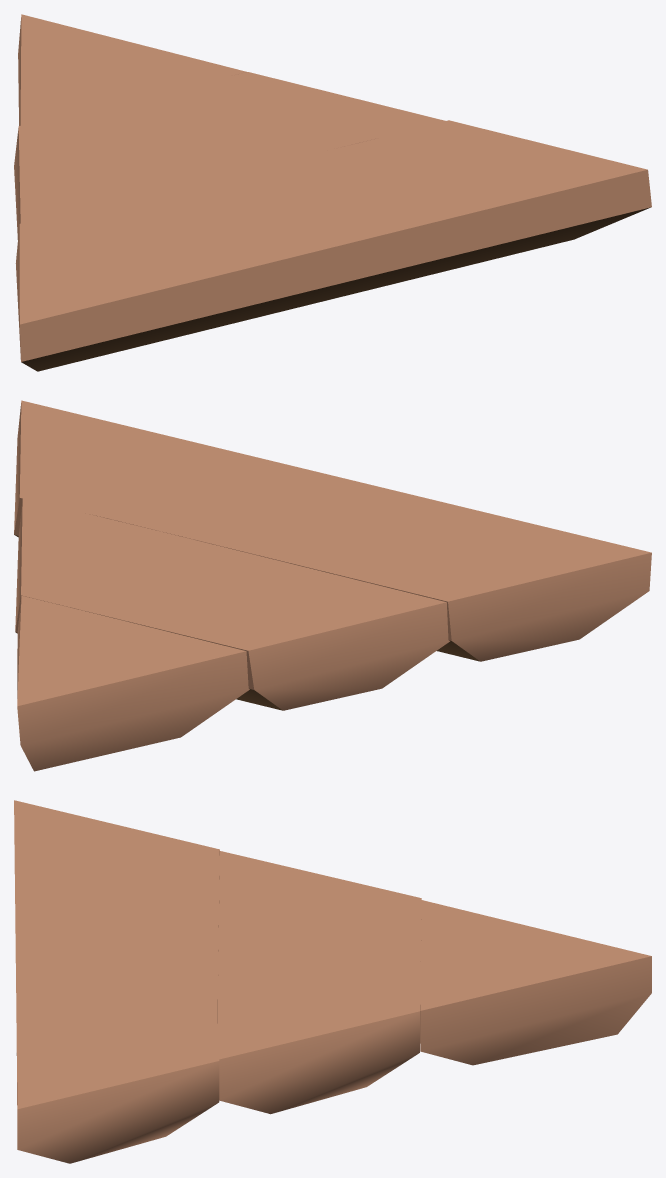
File: pineSplitLogTriFloorSection2.glb
3 renders of one model, top to bottom at view 1: azimuth 30°, elevation 25°; view 2: azimuth 150°, elevation 25°; view 3: azimuth 270°, elevation 25°, orthographic.
Visible parts, largest first — view 1: inside; view 2: inside; view 3: inside.
Boxes of the visible parts, x1,y1,x2,y2 form: inside: [14, 14, 651, 371]; inside: [14, 400, 651, 771]; inside: [14, 800, 651, 1163].
Size of the model in its own units: 1.04 by 0.1233 by 0.8978.
